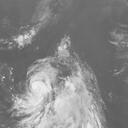cyclone: (10, 58, 68, 118)
